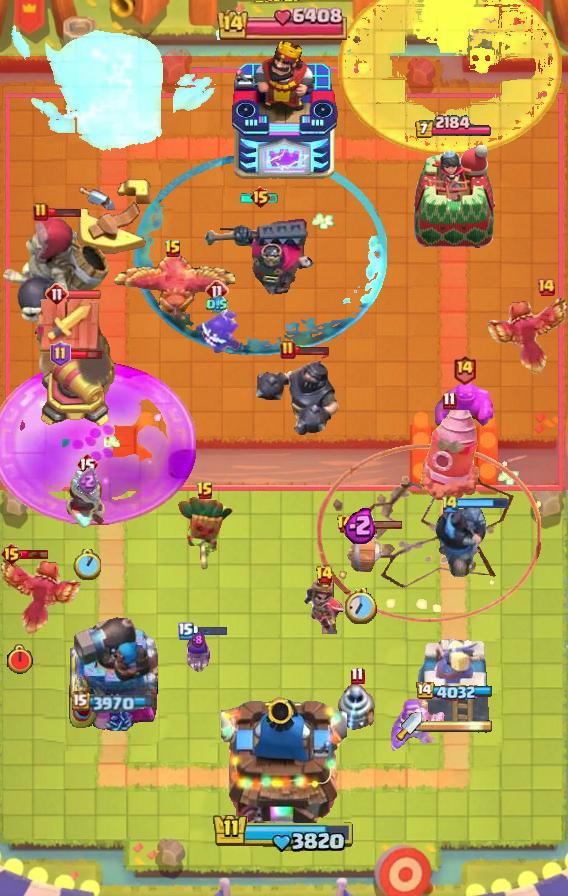bar: (416, 637, 490, 731)
bomber-evolution: (302, 578, 346, 634)
clock: (212, 812, 356, 854), (217, 6, 351, 40)
electro-giant: (0, 216, 114, 324)
electro-spirit: (344, 506, 378, 544), (78, 468, 99, 494), (206, 295, 228, 314), (191, 631, 205, 649)
elixir: (345, 588, 377, 624), (73, 548, 101, 579), (6, 644, 34, 675)
emote: (457, 497, 509, 509), (352, 518, 404, 529), (68, 347, 103, 360), (46, 206, 82, 218), (66, 288, 102, 300), (14, 548, 50, 560), (192, 624, 228, 636), (295, 344, 330, 356)
firecracker-evolution: (391, 698, 447, 754)
goblin: (183, 636, 213, 674)
goblin-barrel: (175, 494, 235, 570)
goblin-drill: (334, 677, 380, 731)
golden-knight: (482, 292, 568, 374), (0, 552, 86, 634)
guard: (317, 444, 541, 623)
ice-spirit: (239, 191, 281, 203)
inferno-dragon: (433, 500, 489, 580)
inferno-tower: (202, 214, 318, 300)
king-tower: (221, 690, 347, 826), (230, 41, 338, 181)
king-tower-bar: (422, 719, 494, 733)
knight: (335, 520, 387, 574)
knight-evolution: (0, 363, 196, 526)
magic-archer: (416, 405, 482, 503)
mega-knight: (12, 9, 229, 155)
mortar: (65, 469, 109, 531)
mother-witch: (111, 252, 235, 326)
pad_0: (133, 153, 387, 359)
phoenix-egg: (338, 1, 562, 156)
queen-tower: (410, 144, 496, 255)
royal-guardian: (254, 350, 342, 438)
royal-recruit: (36, 354, 114, 430)
selected: (414, 115, 494, 140), (71, 691, 156, 713), (414, 682, 492, 702)
sparky: (29, 298, 115, 396)
spear-goblin: (193, 306, 241, 354)
text: (451, 354, 476, 385), (205, 279, 229, 303), (45, 282, 69, 306), (248, 185, 271, 209), (1, 542, 24, 566), (50, 341, 71, 367), (76, 452, 98, 476), (440, 493, 460, 515), (536, 277, 556, 297), (336, 514, 356, 534), (315, 565, 334, 585), (164, 239, 182, 259), (196, 481, 214, 501), (33, 202, 49, 222), (280, 340, 296, 360), (178, 622, 194, 640), (442, 391, 457, 410), (351, 666, 366, 685)
tornado: (435, 381, 493, 427)
tower-bar: (68, 611, 160, 731)
